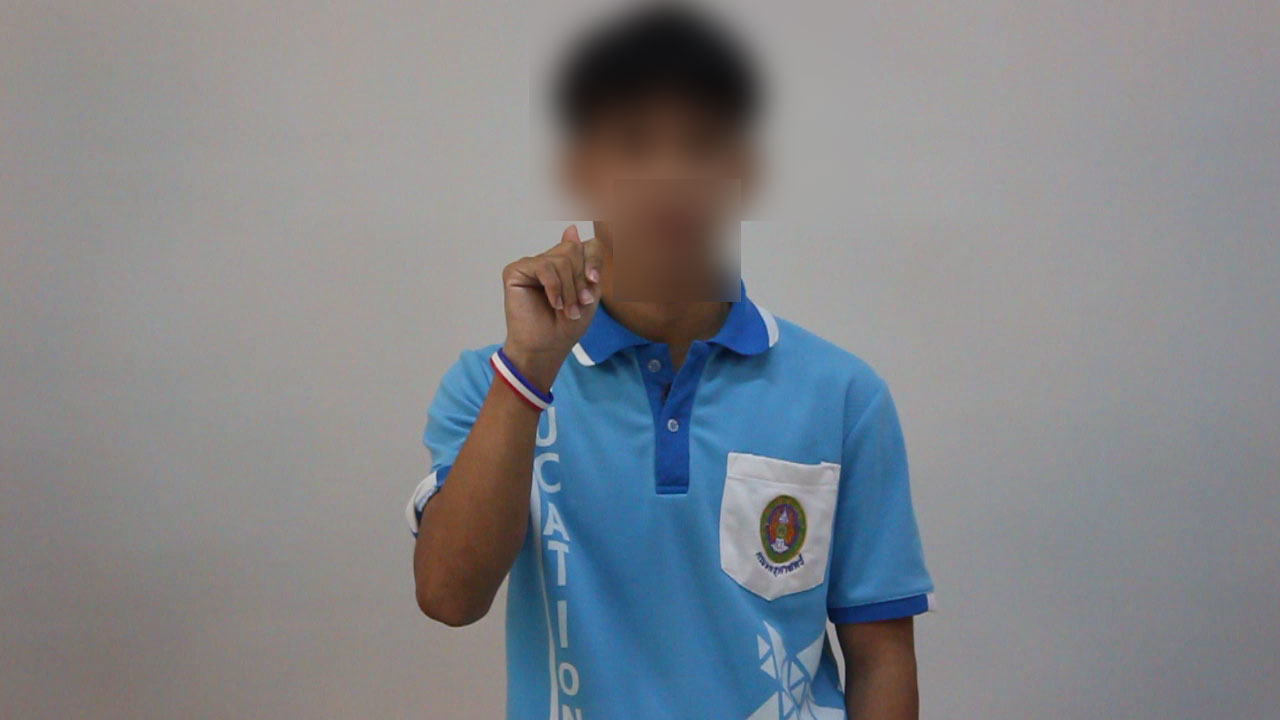tor: (490, 221, 616, 377)
